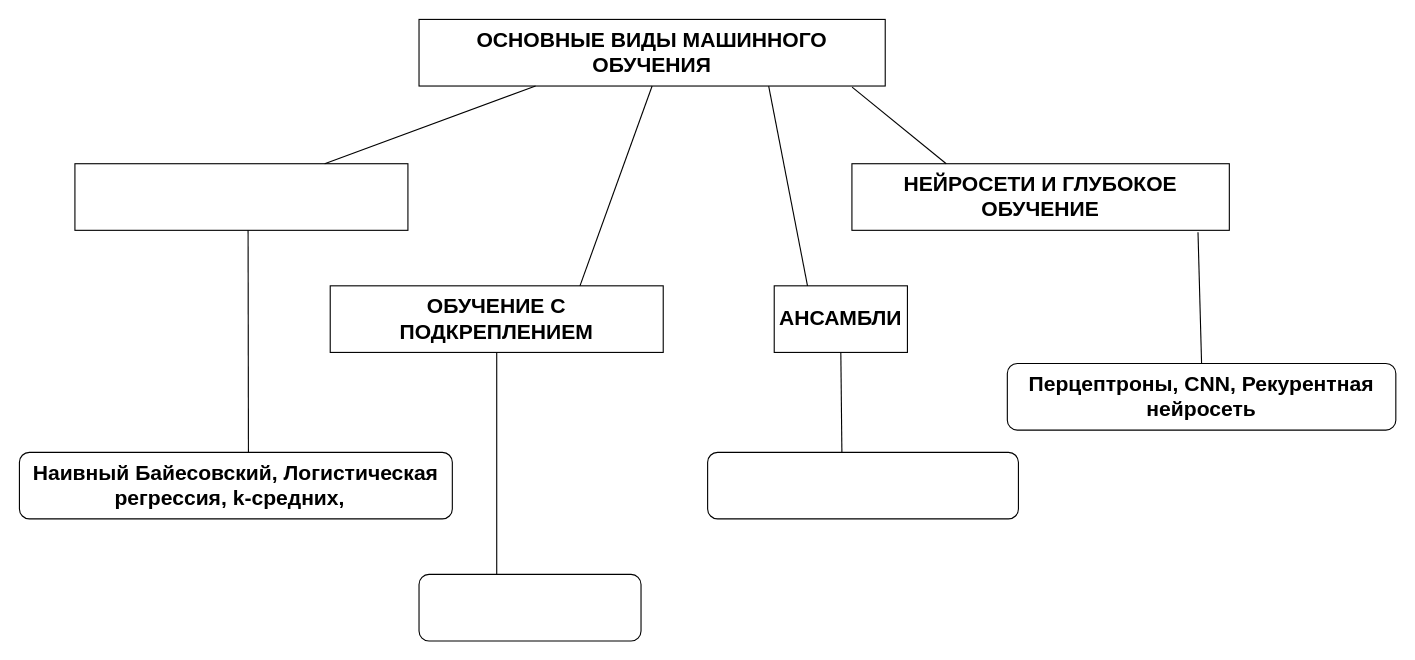
Some shapes in this 1415 by 660 pixel diagram are drawn without their labels. Each missing label, with the centre of its shape:
"Q-Learning, SARSA" belongs at point 529,607.
"КЛАССИЧЕСКОЕ ОБУЧЕНИЕ" belongs at point 241,196.
"Случайный лес, Стекинг, Бустинг" belongs at point 862,485.
